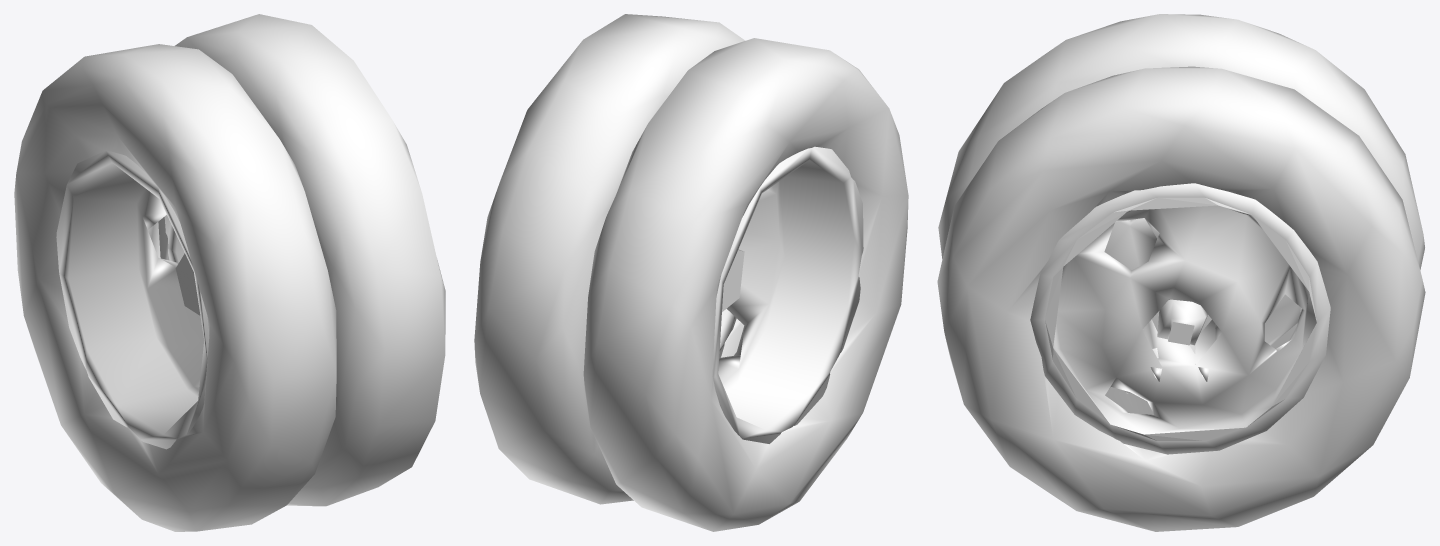
3 renders of one model, left to right at view 1: azimuth 30°, elevation 25°; view 2: azimuth 150°, elevation 25°; view 3: azimuth 270°, elevation 25°, orthographic.
Bounding box in the file's own units: 0.6253 × 1.05 × 1.06.
1 material, 1 textured.
